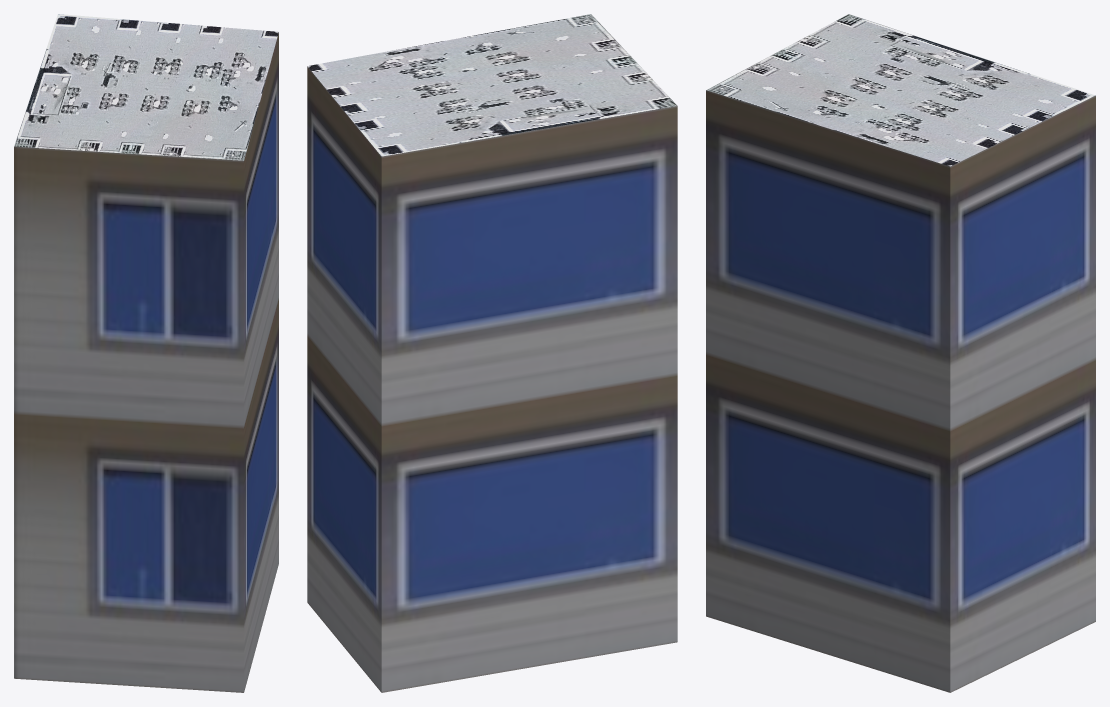
Rendered from ResTex__2118.fbx.
3 views of the same model, side by side, from view 1: azimuth 30°, elevation 25°; view 2: azimuth 150°, elevation 25°; view 3: azimuth 270°, elevation 25° (orthographic).
Visible parts, largest first — view 1: CityEngineMaterial_23_m, CityEngineMaterial_8_m; view 2: CityEngineMaterial_23_m, CityEngineMaterial_8_m; view 3: CityEngineMaterial_23_m, CityEngineMaterial_8_m.
Boxes of the visible parts, x1,y1,x2,y2 form: CityEngineMaterial_23_m: [14, 32, 278, 692]; CityEngineMaterial_8_m: [14, 14, 278, 160]; CityEngineMaterial_23_m: [307, 66, 677, 692]; CityEngineMaterial_8_m: [307, 14, 677, 156]; CityEngineMaterial_23_m: [706, 90, 1095, 692]; CityEngineMaterial_8_m: [706, 14, 1095, 166].
Bounding box in the file's own units: 3.73 × 6 × 4.03.
2 materials, 2 textured.
